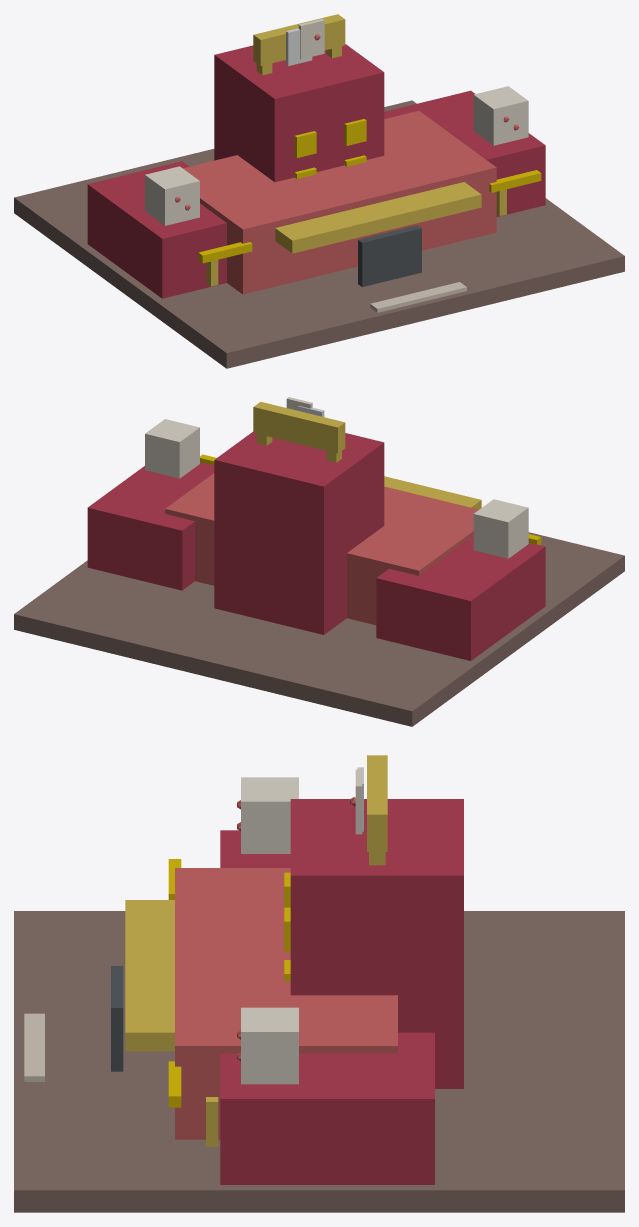
The model's file is casino.glb.
3 renders of one model, top to bottom at view 1: azimuth 30°, elevation 25°; view 2: azimuth 150°, elevation 25°; view 3: azimuth 270°, elevation 25°, orthographic. The views are drawn at different scales.
Parts seen in each view (by area): view 1: world; view 2: world; view 3: world.
Boxes of the visible parts, bbox=[...] form: world: bbox=[14, 14, 624, 368]; world: bbox=[14, 397, 624, 726]; world: bbox=[14, 755, 624, 1212].
Size of the model in its own units: 1 by 0.5 by 0.925.
